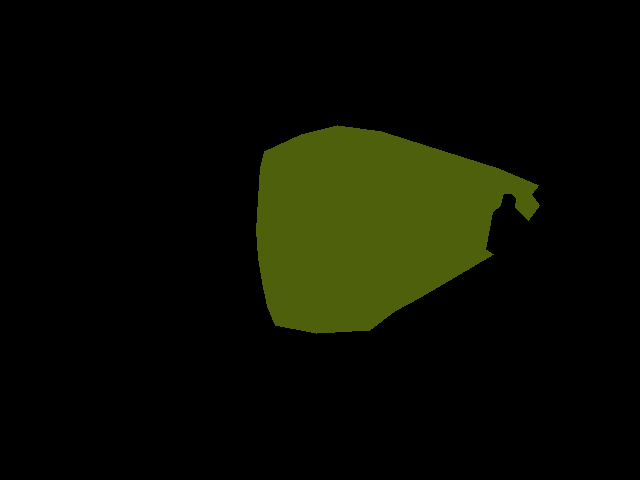Train: (256, 125, 540, 333)
